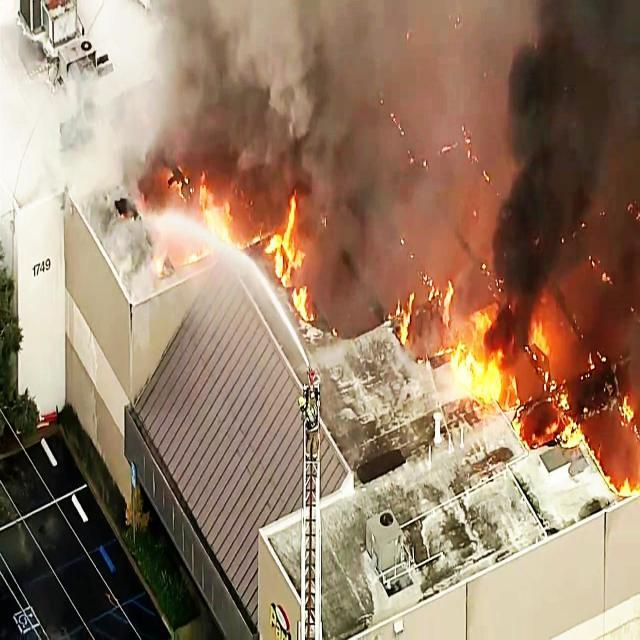Fire: (452, 340, 506, 406)
Smoke: (498, 2, 640, 276)
